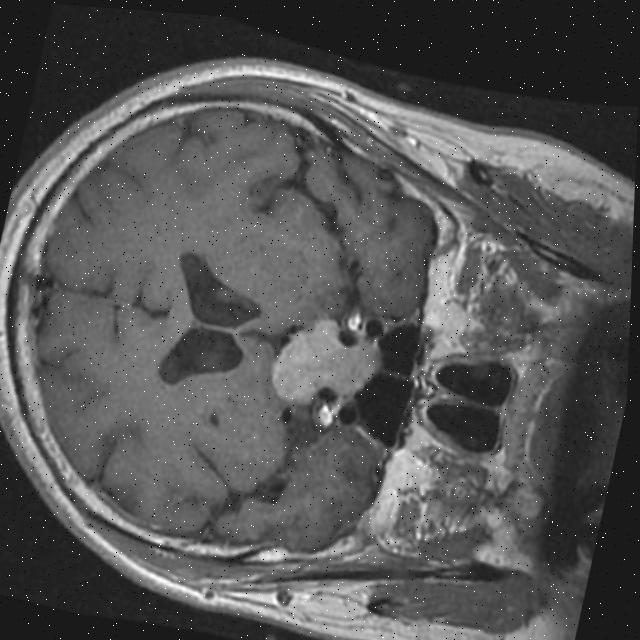Pituitary: (264, 306, 388, 422)
